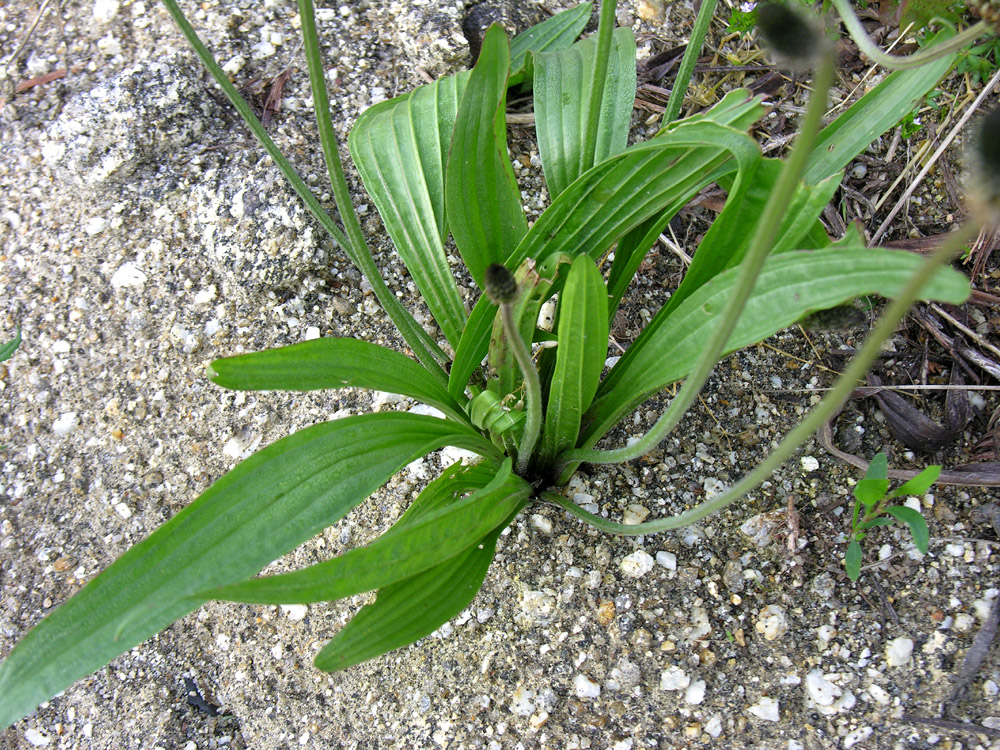buckhorn plantain: (154, 14, 950, 591)
